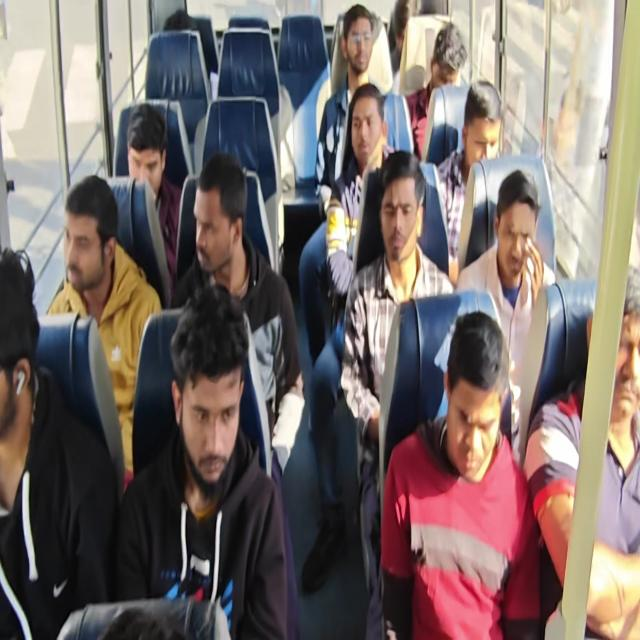person: (162, 286, 251, 495), (448, 306, 508, 506), (585, 250, 640, 442), (0, 244, 40, 462), (184, 149, 246, 276), (60, 177, 118, 303), (491, 170, 546, 300), (119, 92, 170, 202), (384, 150, 426, 268), (346, 82, 394, 175), (455, 74, 500, 165), (431, 21, 467, 95), (342, 0, 376, 74), (387, 0, 423, 53), (161, 3, 201, 43)
